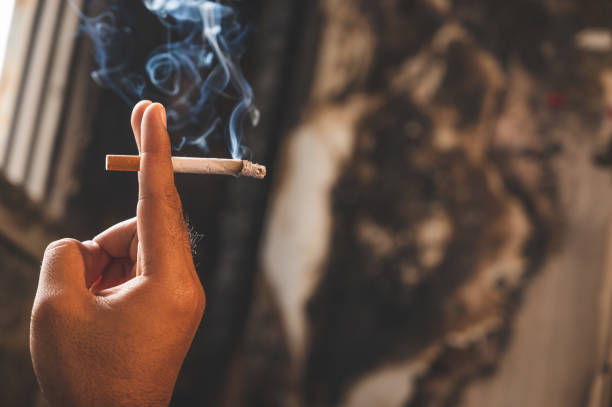cigarette: (106, 153, 264, 179)
